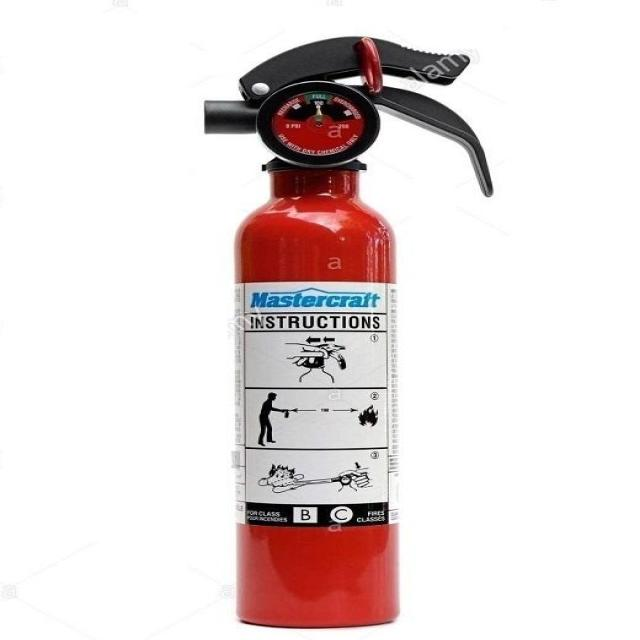fire_extinguisher: (196, 30, 498, 630)
